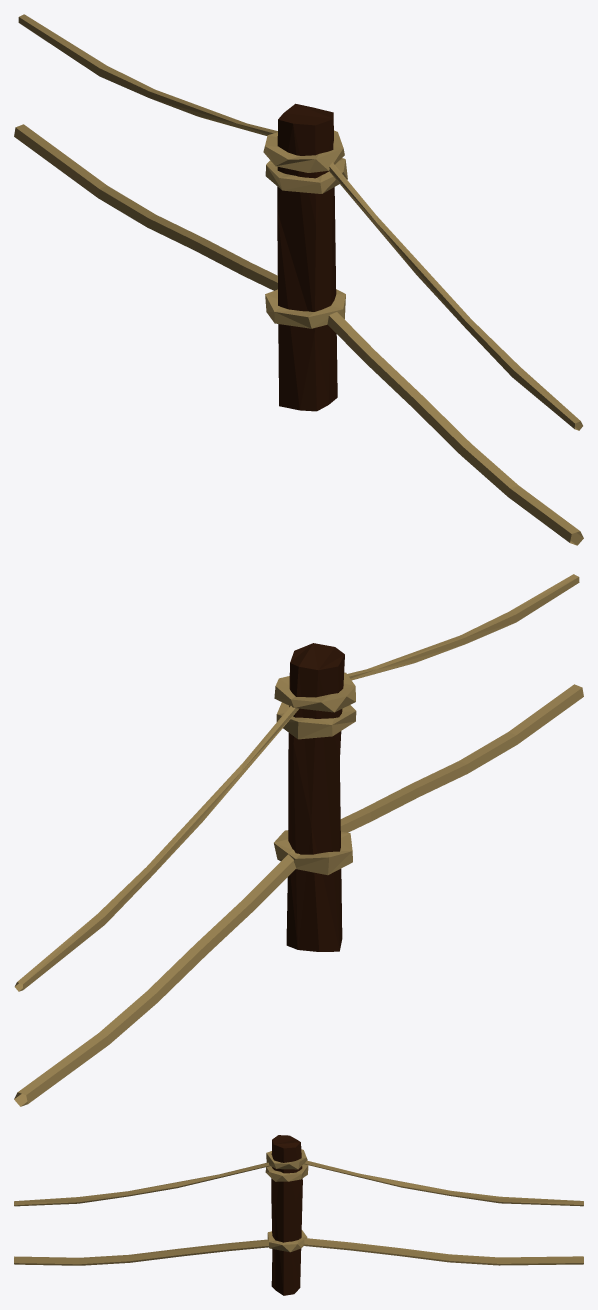
Rendered from ENV_Adventure_Ropes_01.fbx.
3 renders of one model, top to bottom at view 1: azimuth 30°, elevation 25°; view 2: azimuth 150°, elevation 25°; view 3: azimuth 270°, elevation 25°, orthographic. The views are drawn at different scales.
Parts seen in each view (by area): view 1: ENV_Adventure_Ropes_01; view 2: ENV_Adventure_Ropes_01; view 3: ENV_Adventure_Ropes_01.
Part boxes in pixels (<box>): ENV_Adventure_Ropes_01: <box>14,14,583,545</box>; ENV_Adventure_Ropes_01: <box>14,574,583,1106</box>; ENV_Adventure_Ropes_01: <box>14,1135,583,1295</box>.
Bounding box in the file's own units: 29.99 × 115 × 400.
